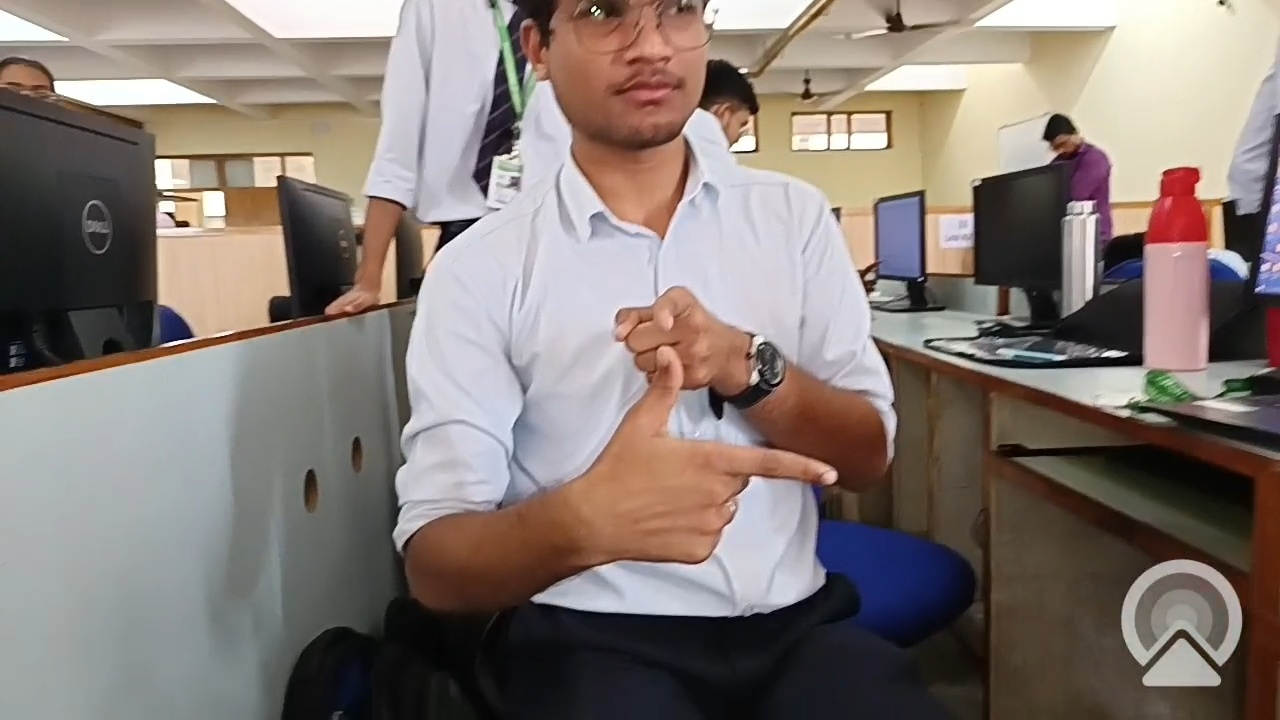J: (549, 257, 856, 597)
